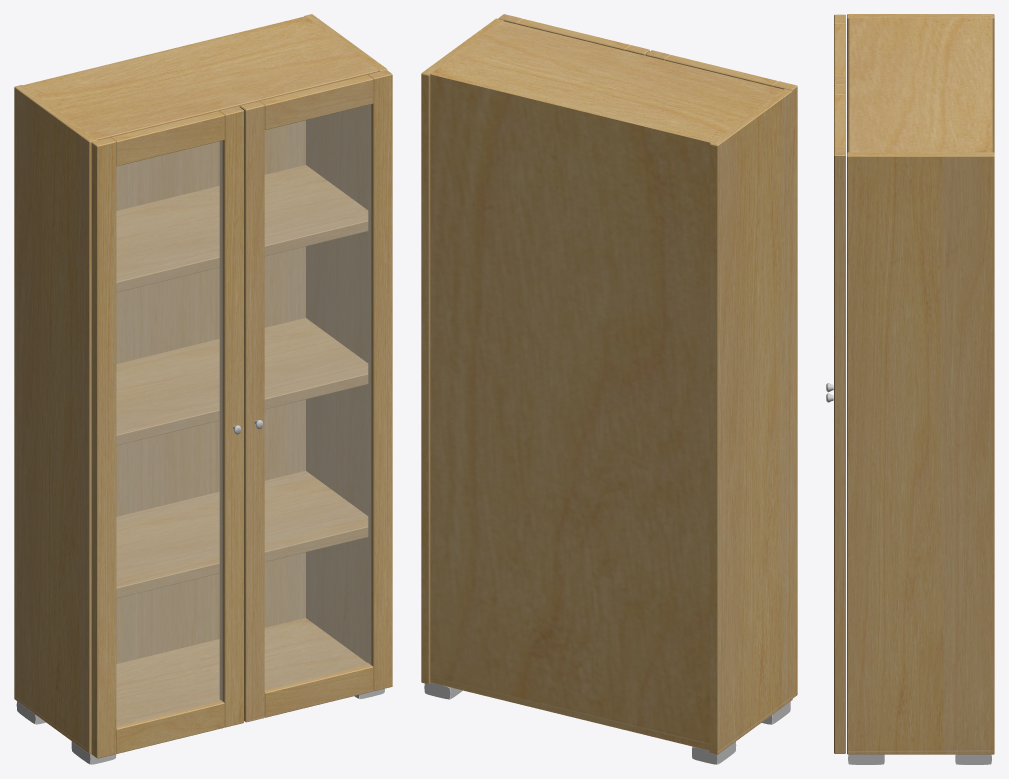
Rendered from biblioteca.glb.
3 views of the same model, side by side, from view 1: azimuth 30°, elevation 25°; view 2: azimuth 150°, elevation 25°; view 3: azimuth 270°, elevation 25° (orthographic). The views are drawn at different scales.
Visible parts, largest first — view 1: biblioteca; view 2: biblioteca; view 3: biblioteca.
Part boxes in pixels (x1,y1,x2,y2): biblioteca: (14,14,392,764); biblioteca: (421,14,797,764); biblioteca: (826,14,994,764).
Size of the model in its own units: 100 by 200 by 50.
Materials: 4 (1 with a texture image).
